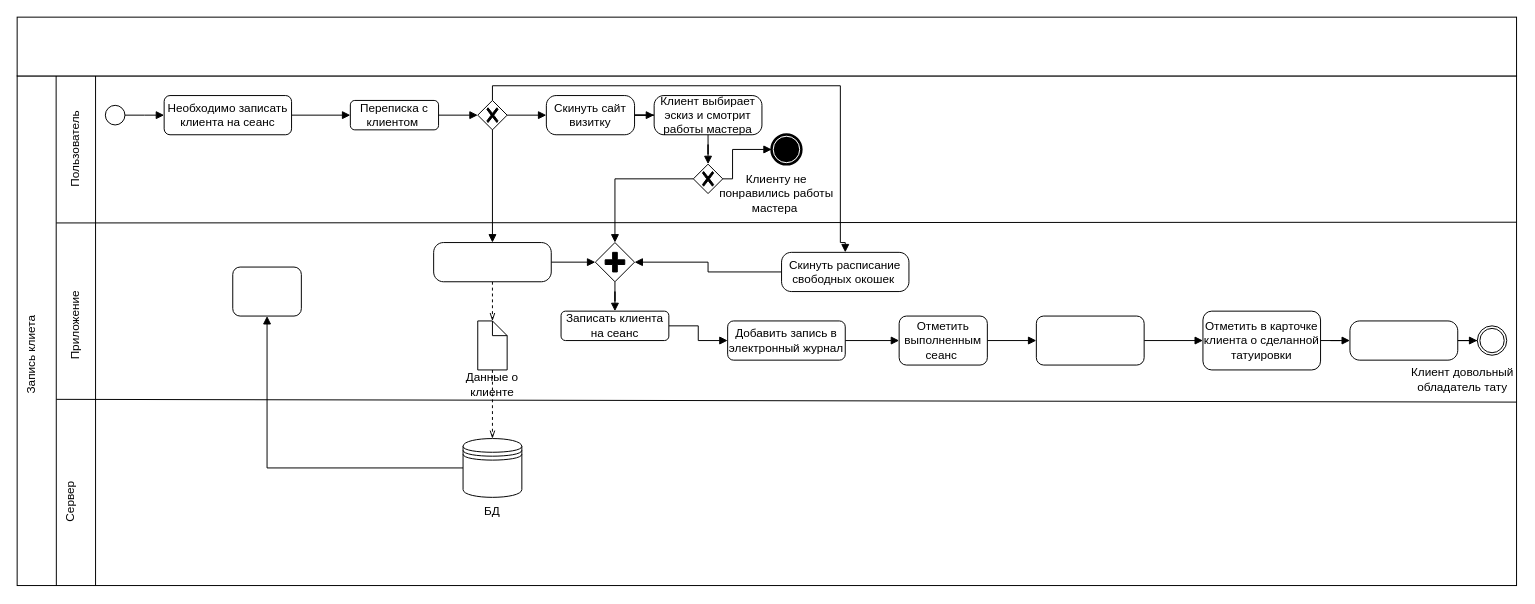
Some shapes in this 1535 by 604 pixel diagram are drawn without their labels. Here are the shapes that lost their labels. From the top down, the box of each, then its label:
(16, 16, 1517, 76): Оптимизация работы мастера татуировки
(433, 242, 551, 282): Создать карточку клиента
(232, 266, 301, 316): Клиенты
(1035, 315, 1144, 365): Записать прибыль от татуировки
(1349, 320, 1458, 360): Отправить памятку об уходе за татуировкой
